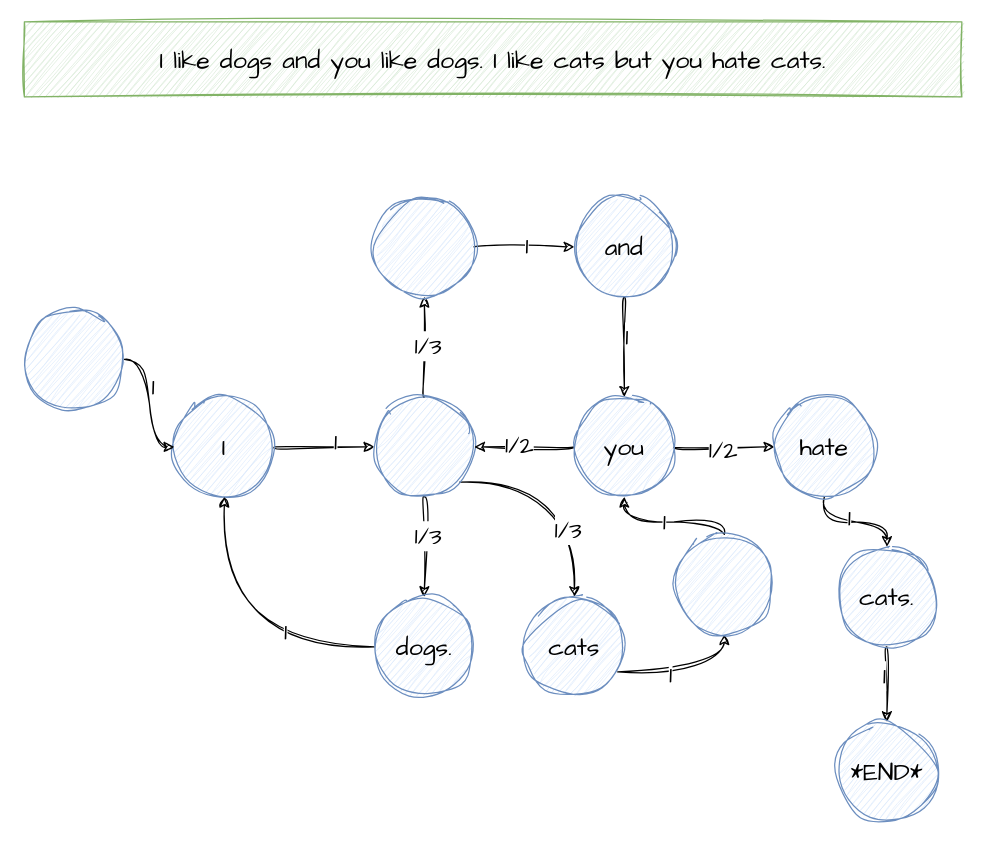
Some shapes in this 984 by 844 pixel diagram are drawn without their labels. Here are the shapes that lost their labels. From the top down, the centre of each, then its label:
At (x=423, y=246): "dogs".
At (x=73, y=358): "*START*".
At (x=423, y=446): "like".
At (x=723, y=583): "but".
